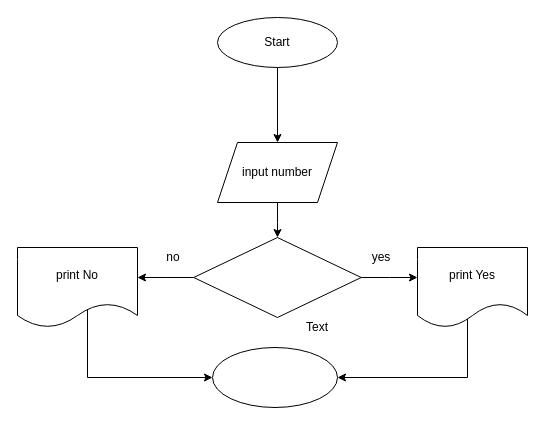
Some shapes in this 545 by 425 pixel diagram are drawn without their labels. The centre of each missing label's shape, as x and y in pixels:
"Abs(number) % 2>0" belongs at (277,277).
"Finish" belongs at (275,377).
